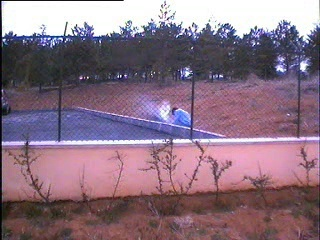smoke: (139, 94, 172, 121)
